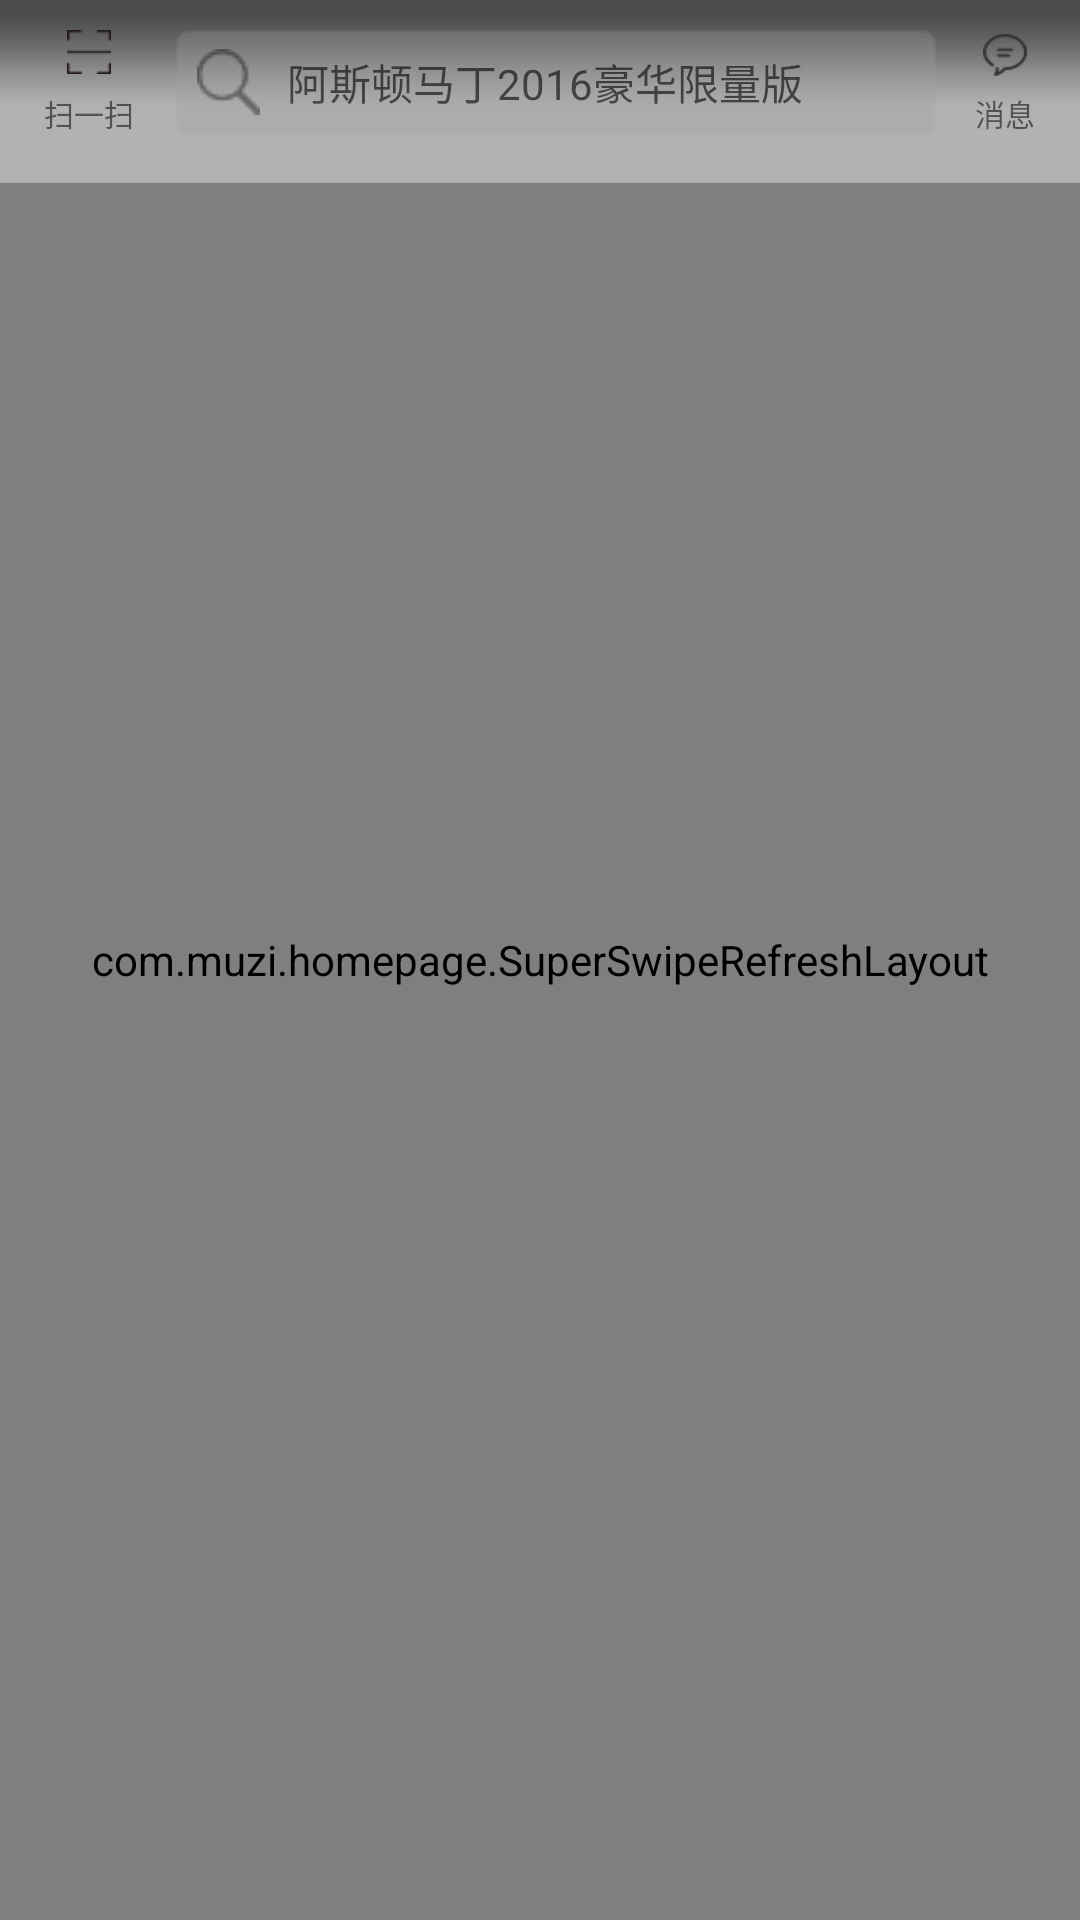

Screen size 1080px×1920px. Icon name, then its center in pixels as point (x, y):
sousuo: point (228, 82)
